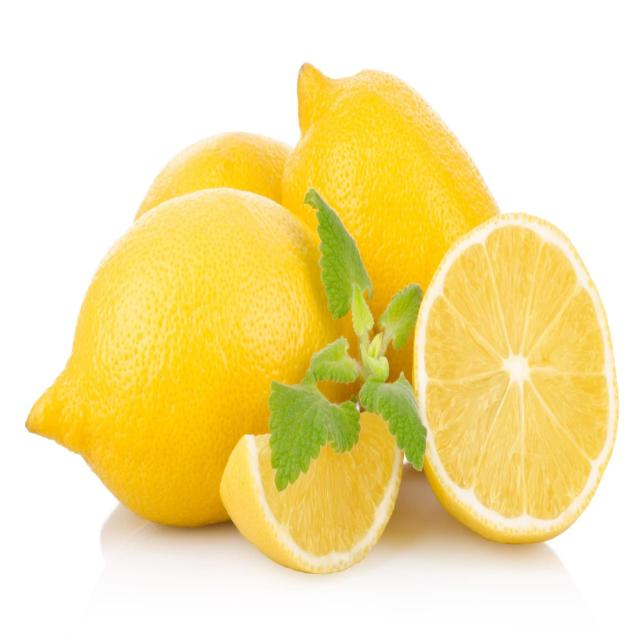lemon: (404, 203, 624, 552)
